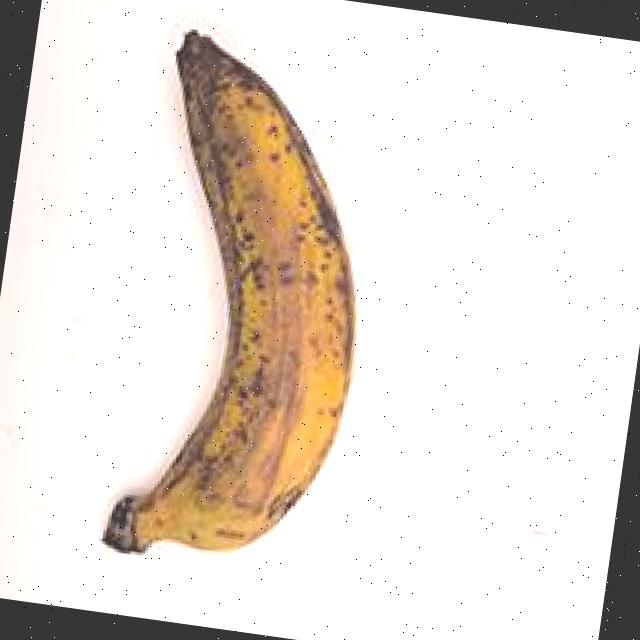Overripe: (36, 0, 409, 600)
